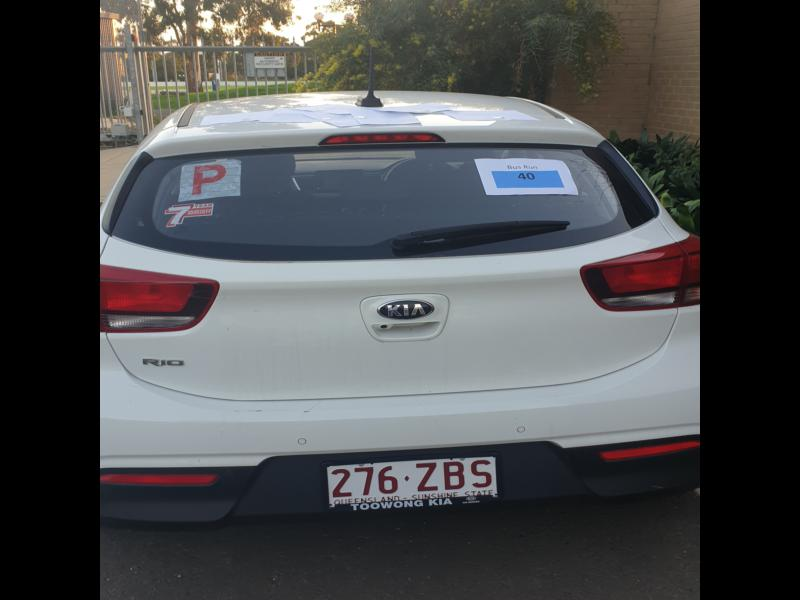BusRun: (492, 169, 563, 187)
PlateNo: (326, 456, 499, 505)
